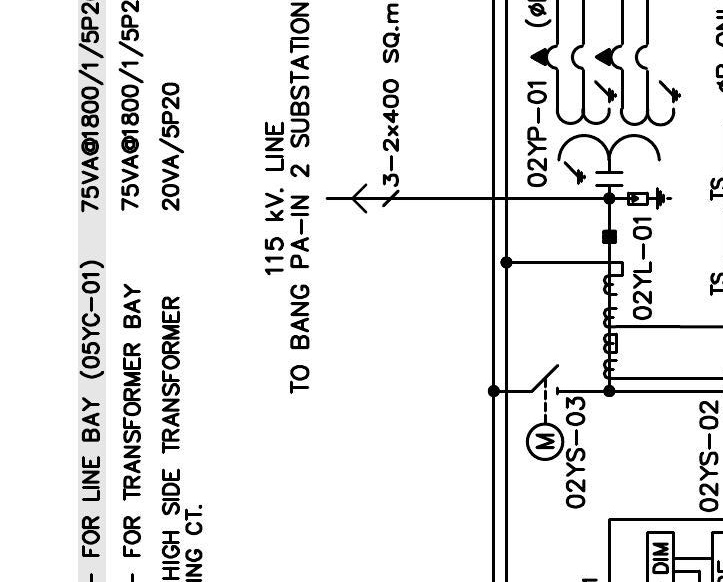115_1way_ds_w_motor: (524, 363, 565, 462)
115_cvt_1p: (529, 42, 682, 188)
115_la: (627, 187, 673, 211)
